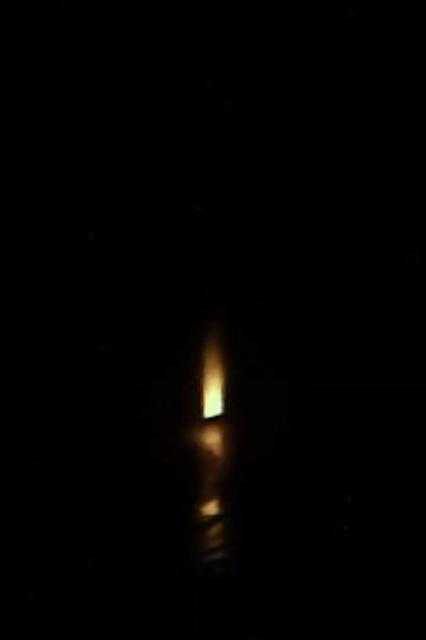burner flame: (199, 336, 229, 420)
